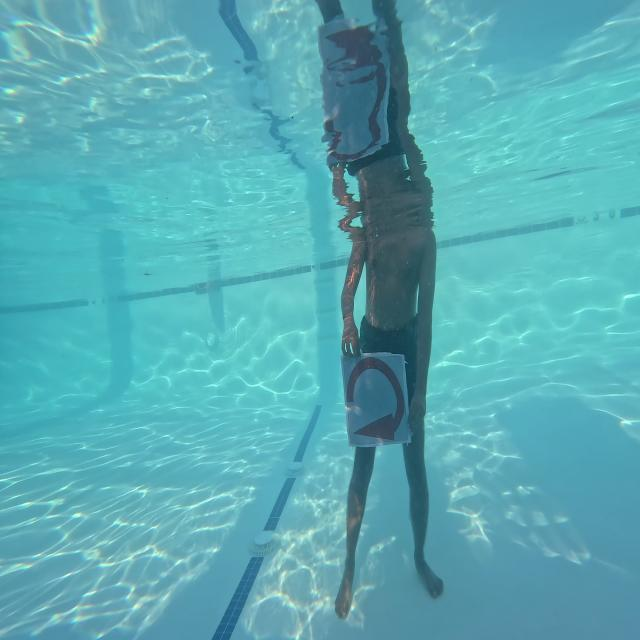red_side: (342, 352, 409, 449)
